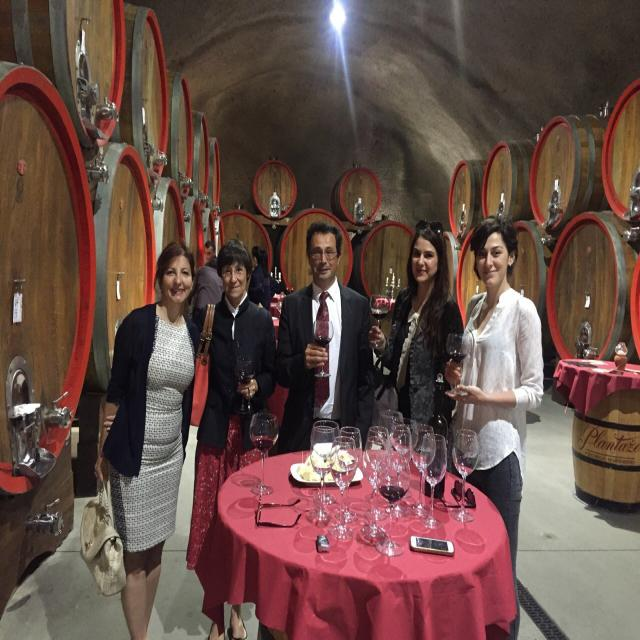body: (440, 210, 548, 639), (92, 238, 202, 639), (192, 238, 278, 639), (274, 219, 378, 455), (368, 223, 464, 444), (187, 257, 225, 324), (247, 244, 277, 311), (204, 239, 218, 265)
